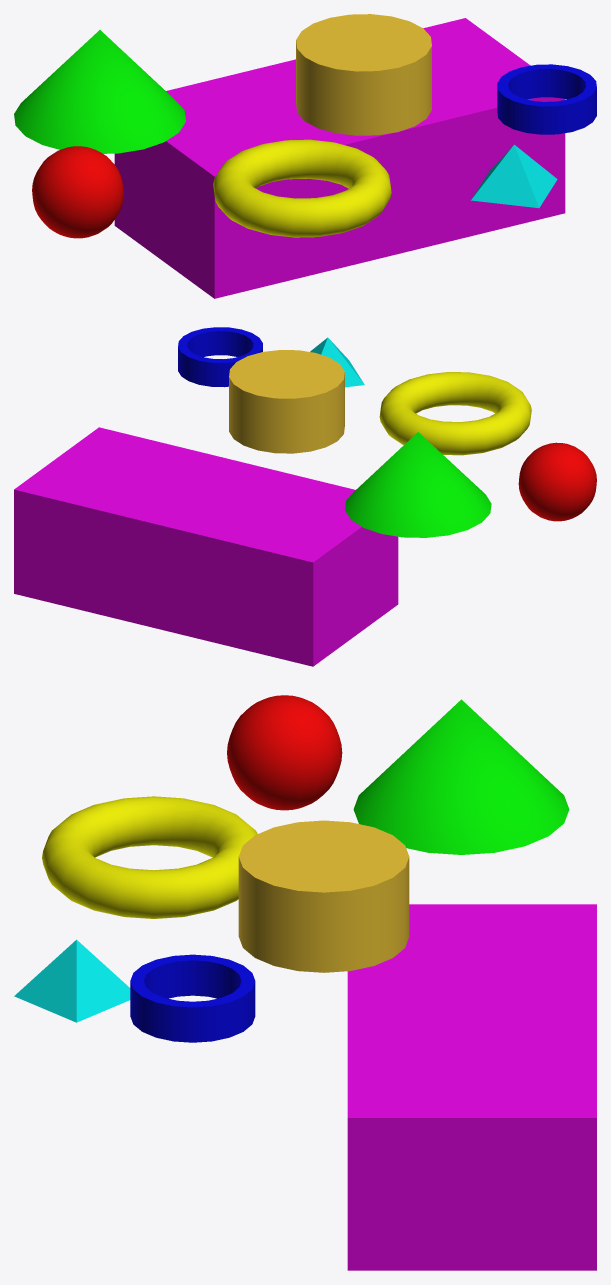
The model's file is seven_shapes.DAE.
3 renders of one model, top to bottom at view 1: azimuth 30°, elevation 25°; view 2: azimuth 150°, elevation 25°; view 3: azimuth 270°, elevation 25°, orthographic. The views are drawn at different scales.
Parts seen in each view (by area): view 1: pCube1, pCylinder1, pCone1, pTorus1, pSphere1, pPipe1, pPyramid1; view 2: pCube1, pCylinder1, pCone1, pTorus1, pSphere1, pPipe1, pPyramid1; view 3: pCube1, pCylinder1, pCone1, pTorus1, pSphere1, pPipe1, pPyramid1.
Part boxes in pixels (x1,y1,x2,y2): pCube1: (114, 18, 565, 298); pCylinder1: (296, 14, 431, 135); pCone1: (14, 30, 185, 153); pTorus1: (213, 139, 391, 237); pSphere1: (32, 146, 123, 238); pPipe1: (497, 64, 596, 134); pPyramid1: (471, 144, 557, 208); pCube1: (14, 427, 398, 666); pCylinder1: (229, 350, 344, 453); pCone1: (345, 432, 491, 537); pTorus1: (379, 372, 531, 455); pSphere1: (518, 442, 596, 521); pPipe1: (178, 327, 262, 387); pPyramid1: (310, 337, 364, 387); pCube1: (347, 904, 596, 1270); pCylinder1: (238, 820, 409, 972); pCone1: (353, 699, 569, 854); pTorus1: (42, 796, 257, 918); pSphere1: (227, 695, 342, 810); pPipe1: (130, 954, 255, 1042); pPyramid1: (14, 939, 130, 1022).
Bounding box in the file's own units: 29.13 × 12.73 × 21.31.
